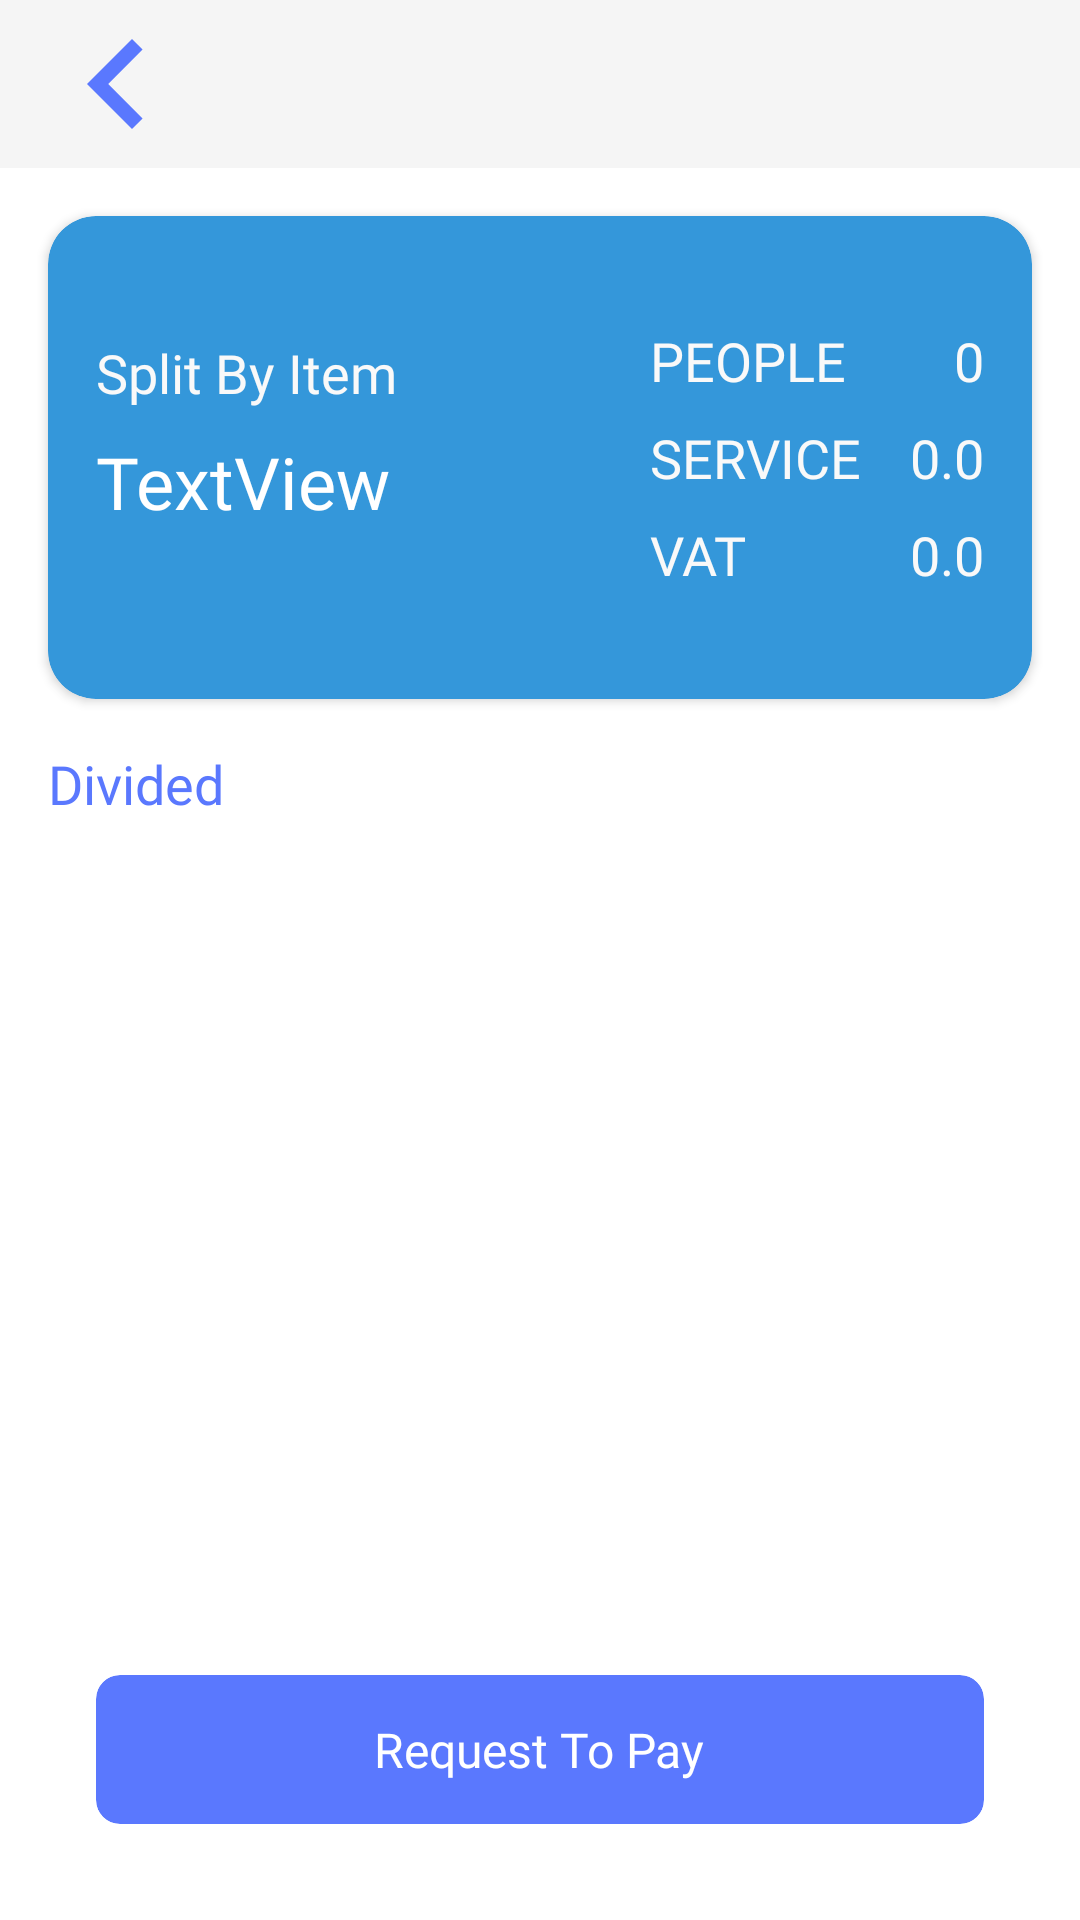

Named icons in this screenshot (1080w x 1920h) and their centers, (x=x, y=y):
back: (x=115, y=84)
